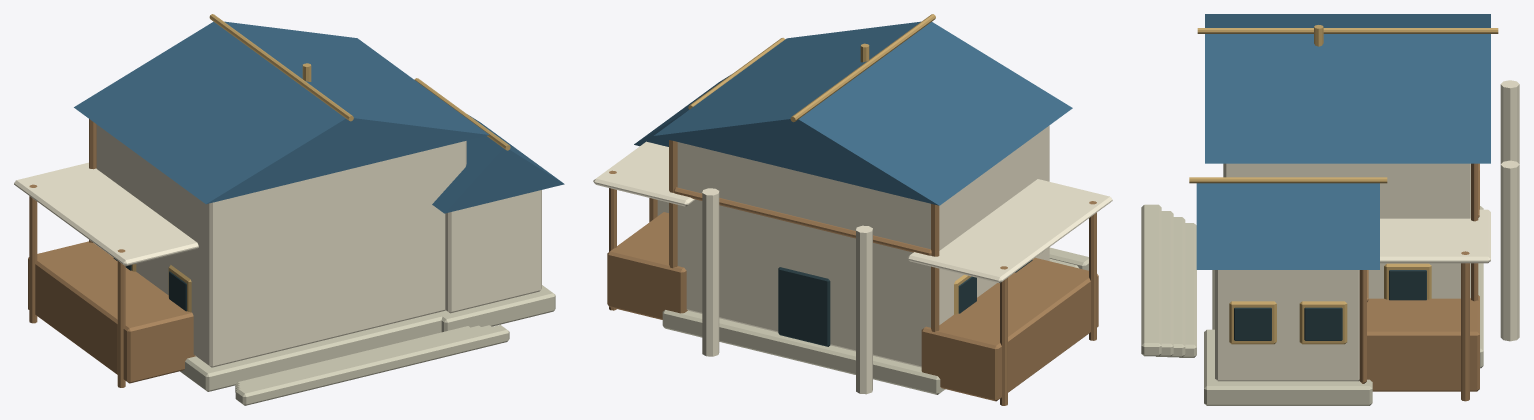
The model's file is level_28.glb.
3 views of the same model, side by side, from view 1: azimuth 30°, elevation 25°; view 2: azimuth 150°, elevation 25°; view 3: azimuth 270°, elevation 25° (orthographic). The views are drawn at different scales.
Visible parts, largest first — view 1: market — level 28; view 2: market — level 28; view 3: market — level 28.
Part boxes in pixels (x1,y1,x2,y2): market — level 28: (14, 14, 564, 405); market — level 28: (593, 14, 1112, 405); market — level 28: (1141, 14, 1519, 405).
Bounding box in the file's own units: 7.08 × 4.16 × 5.16.
